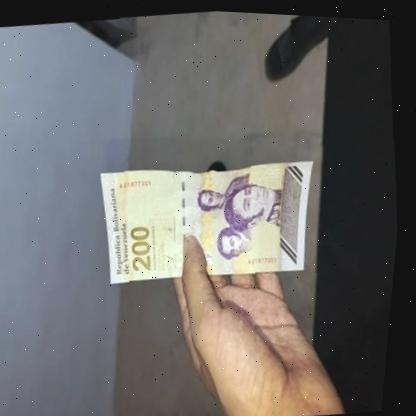two_hundred-front-vef: (94, 144, 326, 291)
